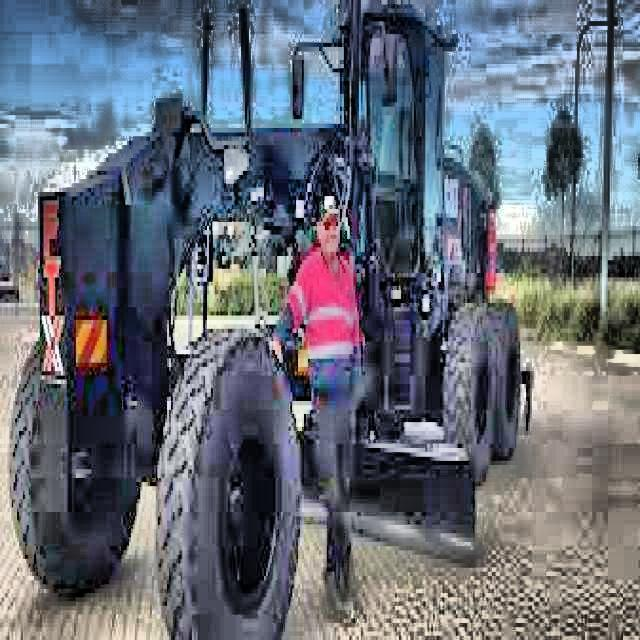bull_dozer/loader/grader: (8, 0, 535, 640)
person: (267, 180, 364, 629)
